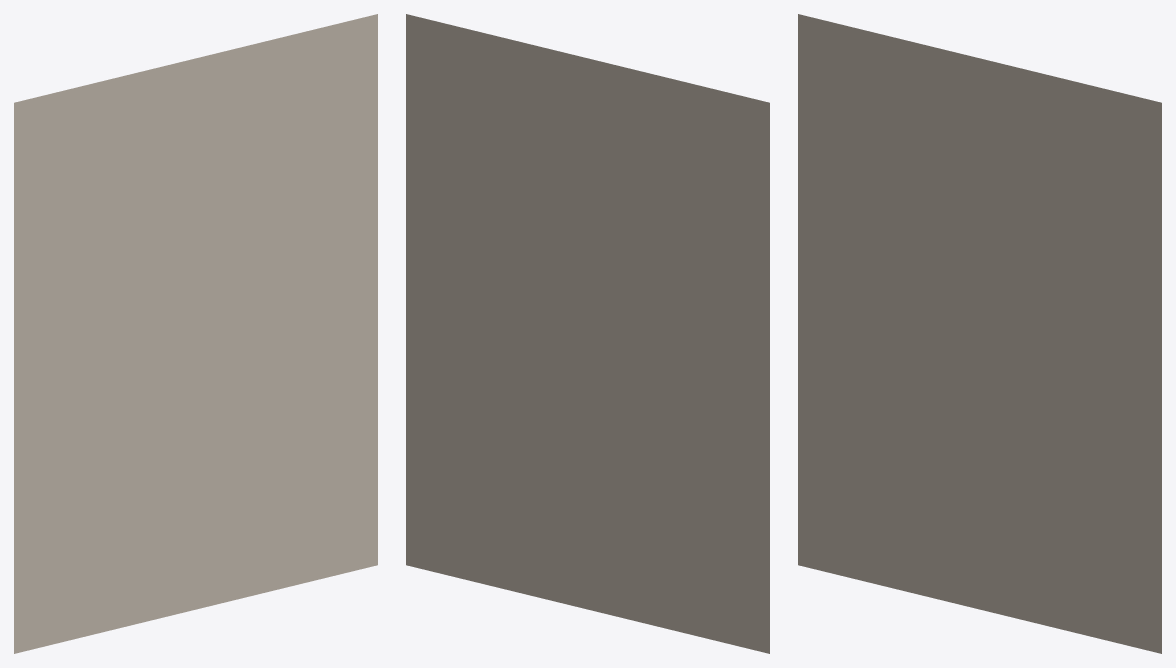
The model's file is curtain.FBX.
The picture shows the model from 3 angles, left to right: view 1: azimuth 30°, elevation 25°; view 2: azimuth 150°, elevation 25°; view 3: azimuth 330°, elevation 25°; orthographic projection.
Parts seen in each view (by area): view 1: curtain; view 2: curtain; view 3: curtain.
Part boxes in pixels (box(x1,y1,x2,y2)): curtain: box(14, 14, 377, 653); curtain: box(406, 14, 769, 653); curtain: box(798, 14, 1161, 653).
Size of the model in its own units: 113 by 164 by 0.
